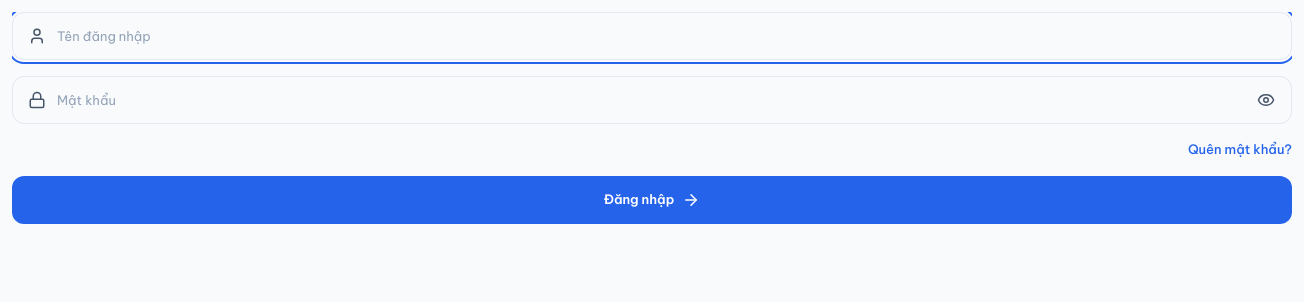
LoginForm › lỗi lạ / mất mạng → thông báo tiếng Việt, nút mở lại để thử lại
This screenshot has width=1304, height=302.
Type "nam" into the field labelled "Tên đăng nhập" at coordinates (652, 36), box top-left (12, 12), bottom-right (1292, 60)
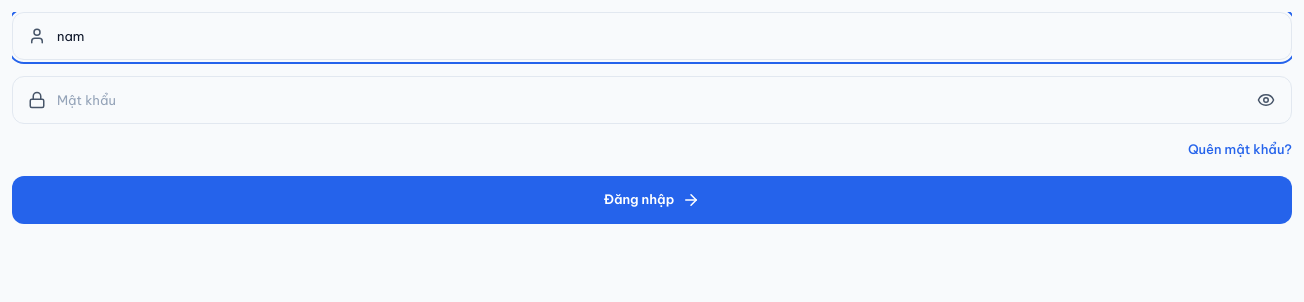
Type "Xuong2026" into the password field labelled "Mật khẩu" at coordinates (652, 100), box top-left (12, 76), bottom-right (1292, 124)
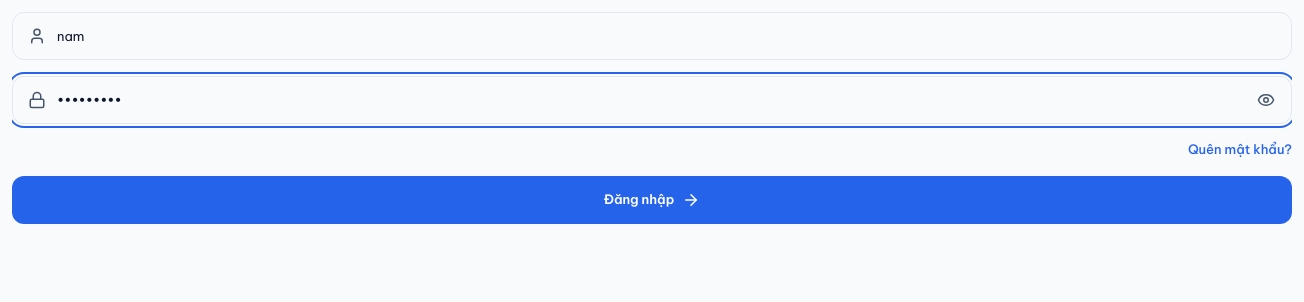
Click the button "Đăng nhập" at coordinates (652, 200), box top-left (12, 176), bottom-right (1292, 224)
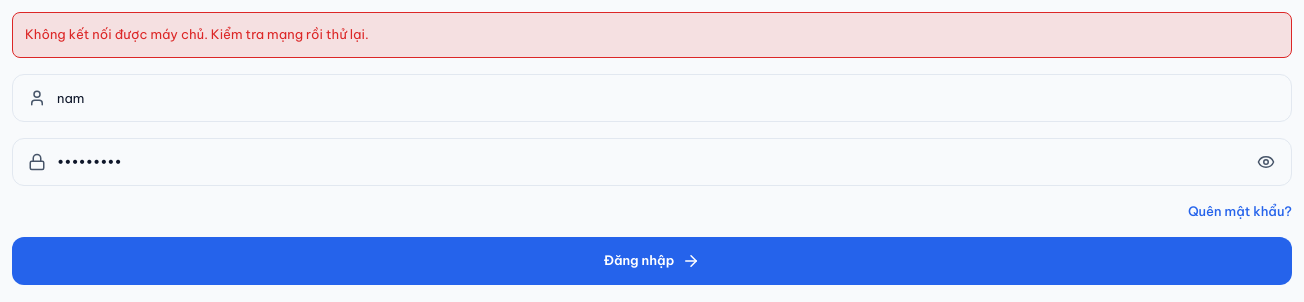
Expected: the button "Đăng nhập" is enabled, top-left (12, 237), bottom-right (1292, 285)
Result: the message shows "Không kết nối được máy chủ" at top-left (25, 26), bottom-right (369, 42)
